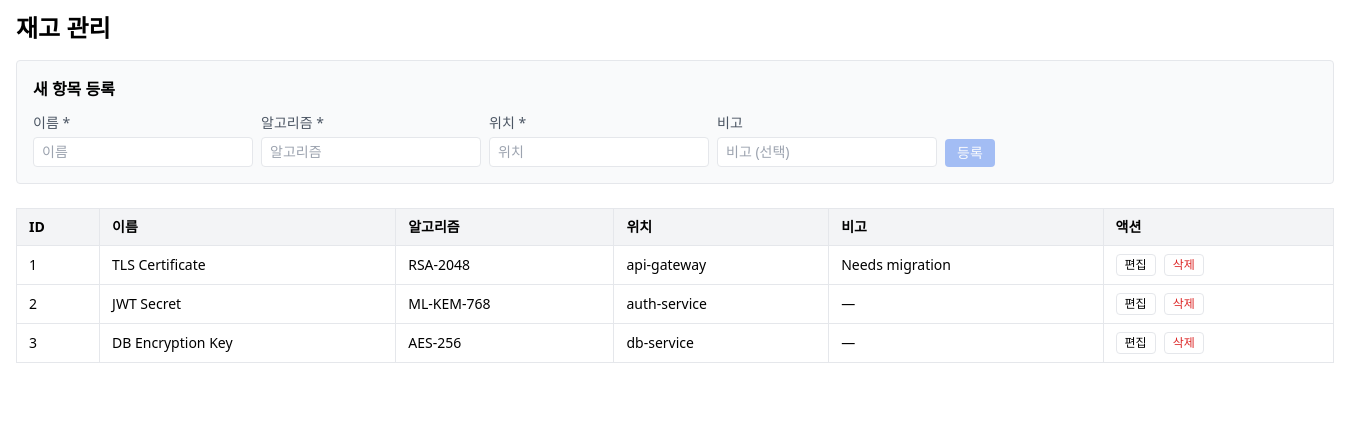
Test case: InventoryPage › 편집 버튼 클릭 시 인라인 편집 폼 표시
expect the text "TLS Certificate" is shown: met, box [100,246,396,284]
Click the button with aria-label "편집 TLS Certificate". click: x=1136, y=265
box: [1116,254,1156,276]
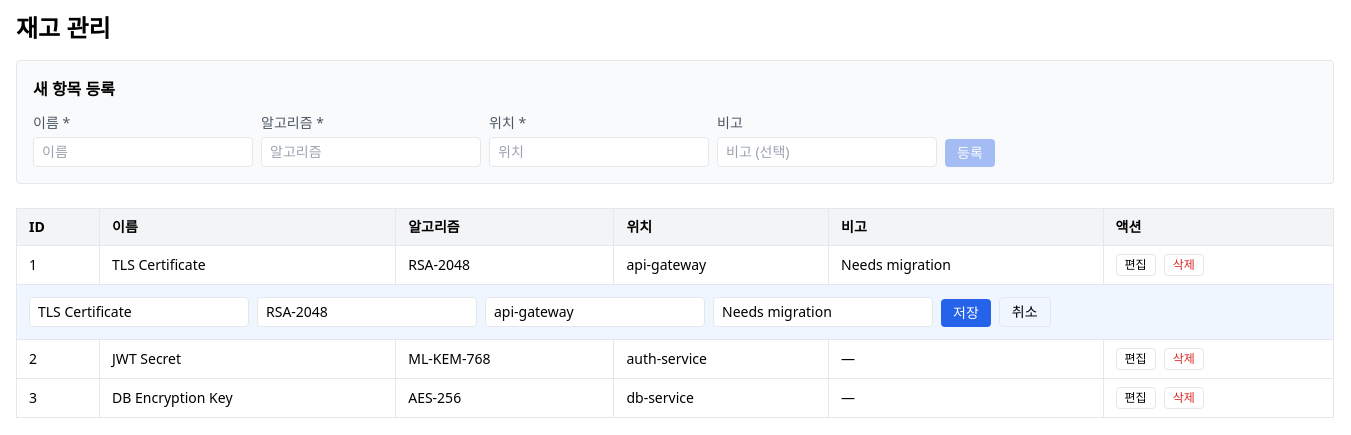
expect the field named "편집 이름" is shown: met, box [29,297,249,327]
